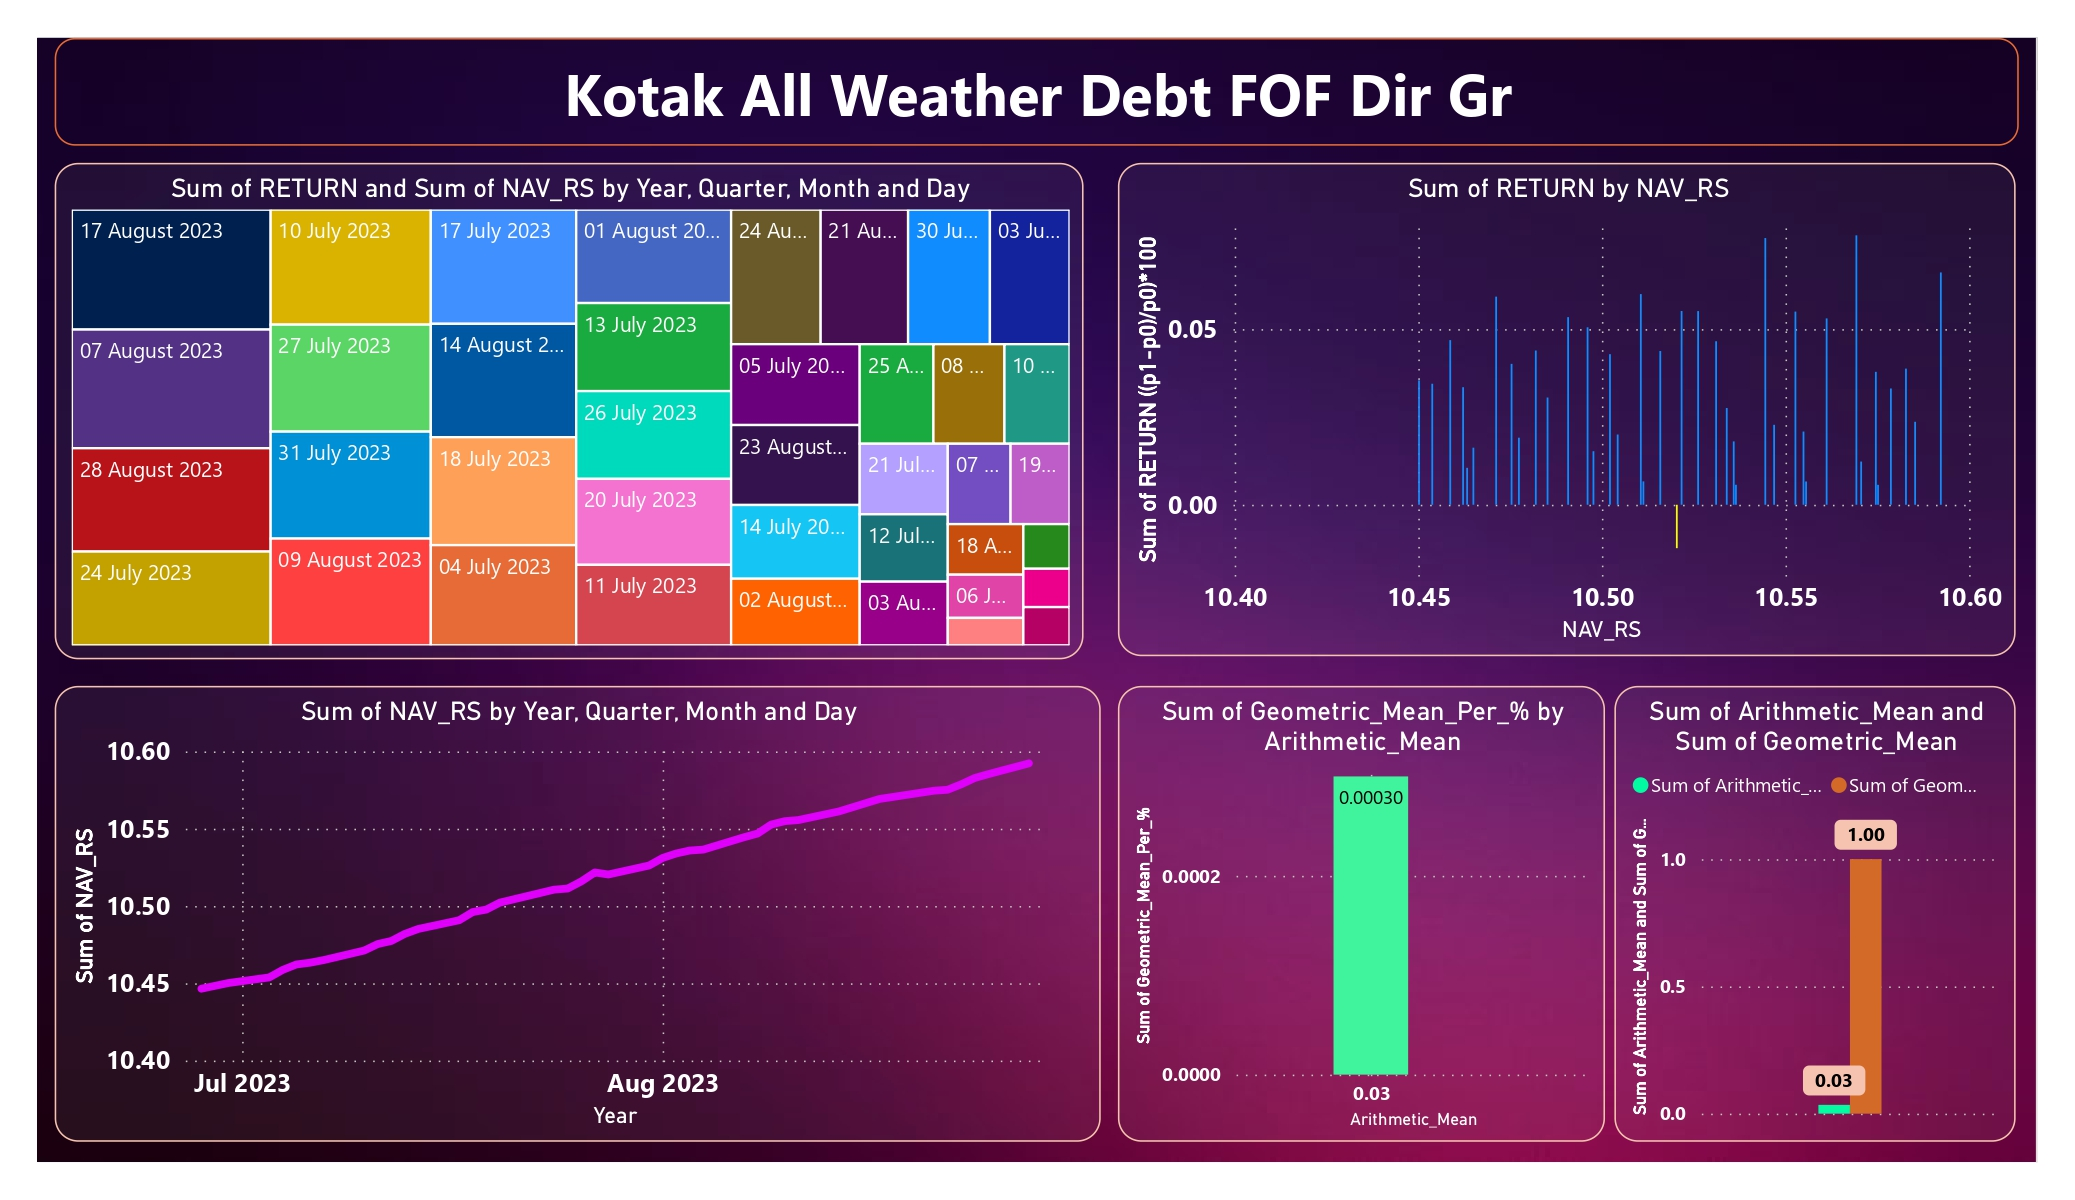

Layout of this report page (visuals, bound fields, positions):
{"tool":"powerbi","page":{"name":"Kotak All Weather Debt FOF Dir Gr","canvas":[1280,720],"ordinal":6},"visuals":[{"type":"textbox","box":[11.4,0,1257.1,68.6],"z":0},{"type":"lineChart","fields":{"Category":["Kotak All Weather Debt FOF Dir Gr.NAV_Date.Variation.Date Hierarchy.Year","Kotak All Weather Debt FOF Dir Gr.NAV_Date.Variation.Date Hierarchy.Quarter","Kotak All Weather Debt FOF Dir Gr.NAV_Date.Variation.Date Hierarchy.Month","Kotak All Weather Debt FOF Dir Gr.NAV_Date.Variation.Date Hierarchy.Day"],"Y":["Sum(Kotak All Weather Debt FOF Dir Gr.NAV_RS)"]},"box":[11,415.4,670.4,292],"z":1000},{"type":"treemap","title":"Sum of RETURN and Sum of NAV_RS by Year, Quarter, Month and Day","fields":{"Details":["Kotak All Weather Debt FOF Dir Gr.NAV_Date"],"Values":["Sum(Kotak All Weather Debt FOF Dir Gr.RETURN ((p1-p0)/p0)*100)"]},"box":[11,79.5,659.5,318.1],"z":2000},{"type":"clusteredColumnChart","title":"Sum of RETURN by NAV_RS","fields":{"Category":["Kotak All Weather Debt FOF Dir Gr.NAV_RS"],"Y":["Sum(Kotak All Weather Debt FOF Dir Gr.RETURN ((p1-p0)/p0)*100)"]},"box":[692.4,79.5,574.5,316.7],"z":3000},{"type":"clusteredColumnChart","fields":{"Y":["Sum(Kotak All Weather Debt FOF Dir Gr.Arithmetic_Mean)","Sum(Kotak All Weather Debt FOF Dir Gr.Geometric_Mean)"]},"box":[1010.5,415.4,256.4,292],"z":4000},{"type":"columnChart","fields":{"Category":["Kotak All Weather Debt FOF Dir Gr.Arithmetic_Mean"],"Y":["Sum(Kotak All Weather Debt FOF Dir Gr.Geometric_Mean_Per_%)"]},"box":[692.4,415.4,311.2,292],"z":5000}]}

Visuals, with their boxes on the page's 1280x720 design canvas (x1, y1, x2, y2). These are canvas units, not pixel positions in the 2075x1200 screenshot, which may show the page scaled, cropped or inside an application window:
textbox: 11,0,1268,69
lineChart - Kotak All Weather Debt FOF Dir Gr.NAV_Date.Variation.Date Hierarchy.Year x Kotak All Weather Debt FOF Dir Gr.NAV_Date.Variation.Date Hierarchy.Quarter: 11,415,681,707
"Sum of RETURN and Sum of NAV_RS by Year, Quarter, Month and Day" treemap: 11,80,670,398
"Sum of RETURN by NAV_RS" clusteredColumnChart: 692,80,1267,396
clusteredColumnChart - Sum(Kotak All Weather Debt FOF Dir Gr.Arithmetic_Mean) x Sum(Kotak All Weather Debt FOF Dir Gr.Geometric_Mean): 1010,415,1267,707
columnChart - Kotak All Weather Debt FOF Dir Gr.Arithmetic_Mean x Sum(Kotak All Weather Debt FOF Dir Gr.Geometric_Mean_Per_%): 692,415,1004,707
